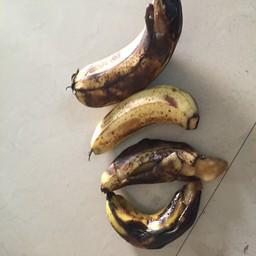Bad_banana: (68, 0, 223, 256)
